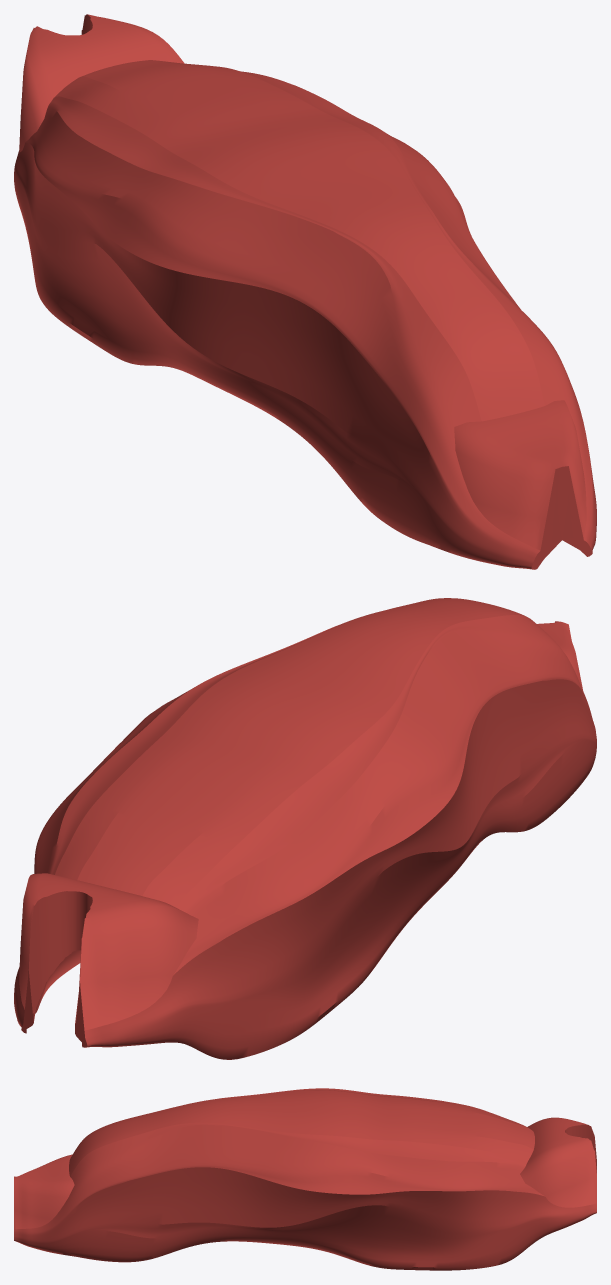
Rendered from race.glb.
3 views of the same model, one above another, from view 1: azimuth 30°, elevation 25°; view 2: azimuth 150°, elevation 25°; view 3: azimuth 270°, elevation 25° (orthographic). The views are drawn at different scales.
Parts seen in each view (by area): view 1: lod0; view 2: lod0; view 3: lod0.
Part boxes in pixels (x1,y1,x2,y2): lod0: (14,14,596,569); lod0: (14,598,596,1059); lod0: (14,1088,596,1270).
Size of what is drawn, in the model's own units: 0.3685 by 0.2667 by 1.07.
